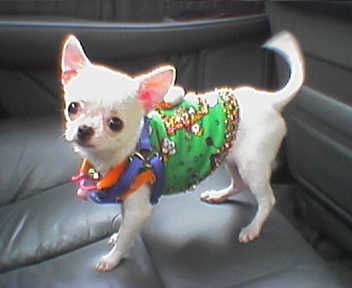dog: (62, 31, 307, 273)
